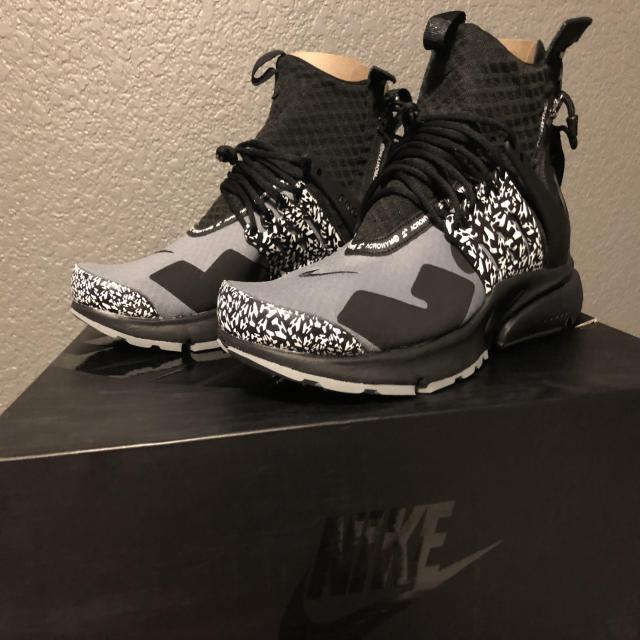shoes: (208, 5, 594, 415), (64, 40, 414, 374)
